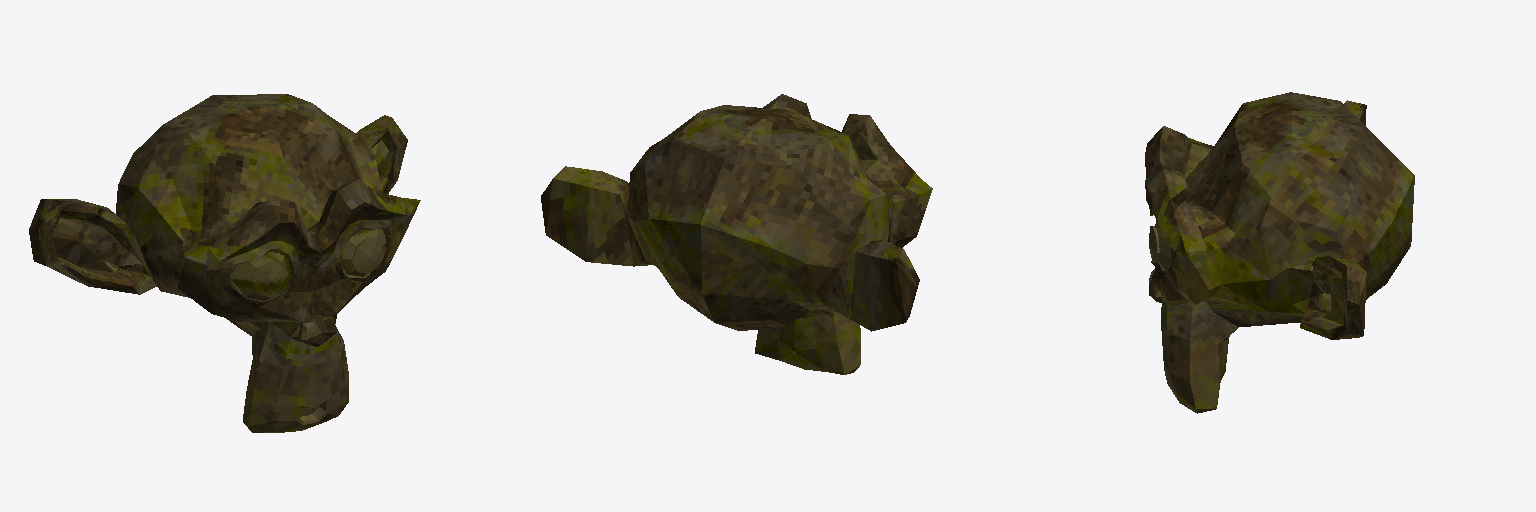
The picture shows the model from 3 angles: view 1: azimuth 30°, elevation 25°; view 2: azimuth 150°, elevation 25°; view 3: azimuth 270°, elevation 25°; orthographic projection.
Visible parts, largest first — view 1: Plane; view 2: Plane; view 3: Plane.
Boxes of the visible parts, x1=… form: Plane: x1=29, y1=94, x2=420, y2=432; Plane: x1=541, y1=94, x2=932, y2=374; Plane: x1=1145, y1=92, x2=1414, y2=413.
Bounding box in the file's own units: 2.73 × 1.97 × 1.7.
2 materials, 2 textured.